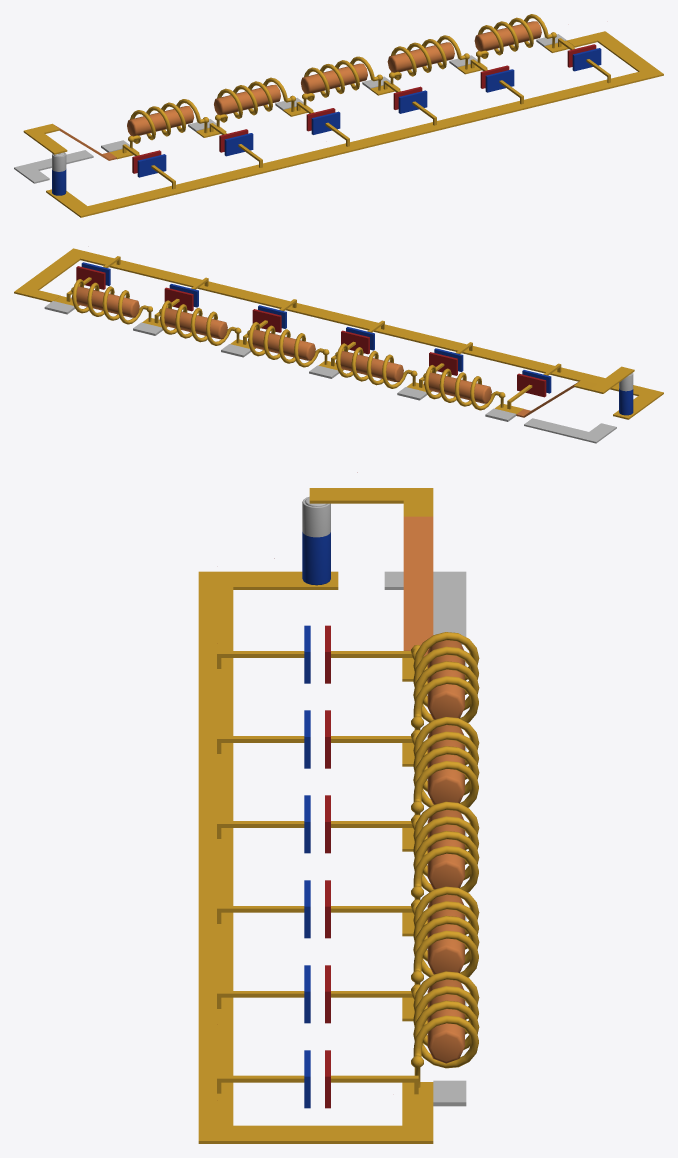
File: impedansiKar.gltf
The picture shows the model from 3 angles, top to bottom: view 1: azimuth 30°, elevation 25°; view 2: azimuth 150°, elevation 25°; view 3: azimuth 270°, elevation 25°; orthographic projection. The views are drawn at different scales.
Visible parts, largest first — view 1: Circle, Cube.008, Plane.006, Plane.007, Cube.009, Cylinder.014; view 2: Circle, Cube.008, Plane.006, Plane.007, Cube.009, Cylinder.014; view 3: Cube.008, Circle, Plane.006, Cube.009, Cylinder.014, Plane.007.
Part boxes in pixels (x1=…): Circle: x1=127, y1=14, x2=556, y2=148; Cube.008: x1=14, y1=31, x2=663, y2=217; Plane.006: x1=110, y1=38, x2=610, y2=189; Plane.007: x1=101, y1=34, x2=566, y2=152; Cube.009: x1=23, y1=123, x2=116, y2=160; Cylinder.014: x1=52, y1=152, x2=66, y2=195; Circle: x1=71, y1=279, x2=505, y2=410; Cube.008: x1=14, y1=248, x2=663, y2=443; Plane.006: x1=54, y1=256, x2=561, y2=413; Plane.007: x1=44, y1=301, x2=516, y2=421; Cube.009: x1=516, y1=366, x2=634, y2=417; Cylinder.014: x1=619, y1=372, x2=633, y2=415; Cube.008: x1=198, y1=571, x2=466, y2=1143; Circle: x1=411, y1=632, x2=479, y2=1087; Plane.006: x1=217, y1=625, x2=433, y2=1108; Cube.009: x1=309, y1=488, x2=433, y2=656; Cylinder.014: x1=302, y1=496, x2=330, y2=585; Plane.007: x1=433, y1=661, x2=466, y2=1106.
Bounding box in the file's own units: 3.98 × 0.3602 × 0.8305.
